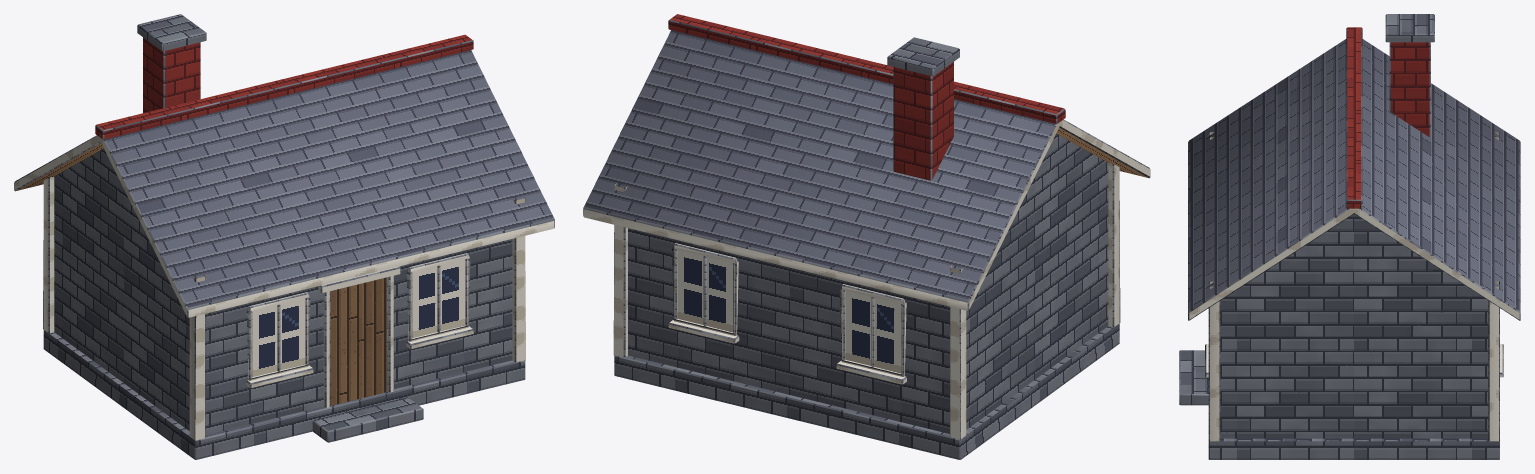
Rendered from cottage_3.glb.
3 renders of one model, left to right at view 1: azimuth 30°, elevation 25°; view 2: azimuth 150°, elevation 25°; view 3: azimuth 270°, elevation 25°, orthographic. The views are drawn at different scales.
Parts seen in each view (by area): view 1: cottage_4; view 2: cottage_4; view 3: cottage_4.
Part boxes in pixels (box(x1,y1,x2,y2)): cottage_4: box(14, 14, 554, 459); cottage_4: box(583, 14, 1150, 459); cottage_4: box(1179, 14, 1520, 459).
Bounding box in the file's own units: 6.96 × 6 × 5.8.
7 materials, 7 textured.
